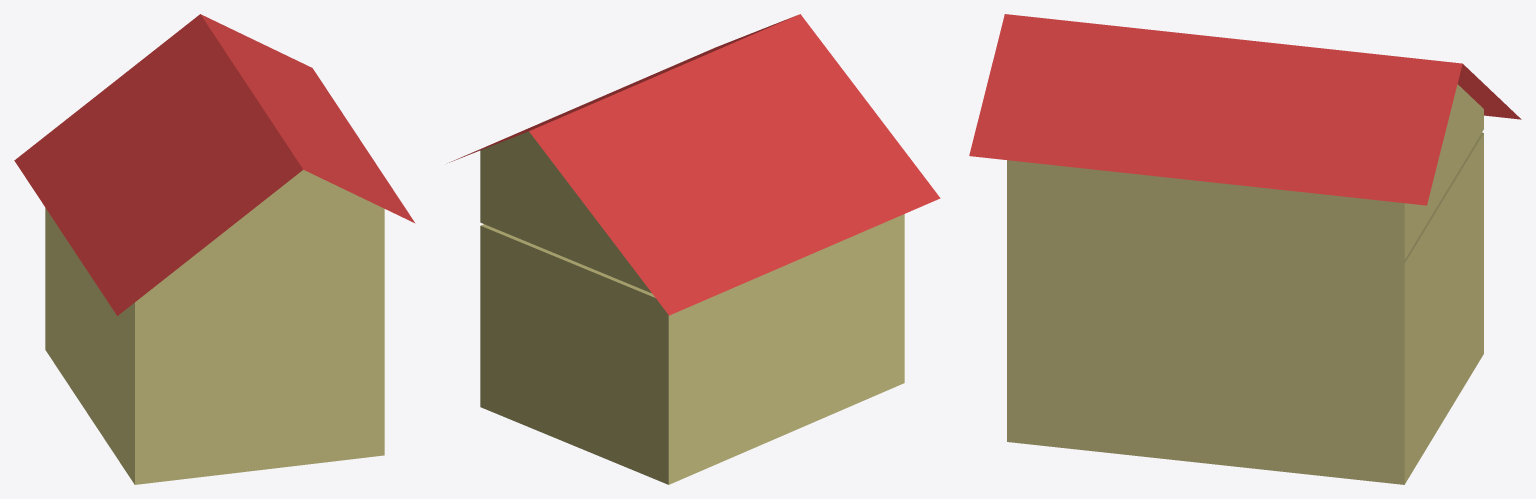
The picture shows the model from 3 angles, left to right: view 1: azimuth 30°, elevation 25°; view 2: azimuth 150°, elevation 25°; view 3: azimuth 270°, elevation 25°; orthographic projection. The views are drawn at different scales.
Size of the model in its own units: 11.76 by 13.32 by 10.07.
